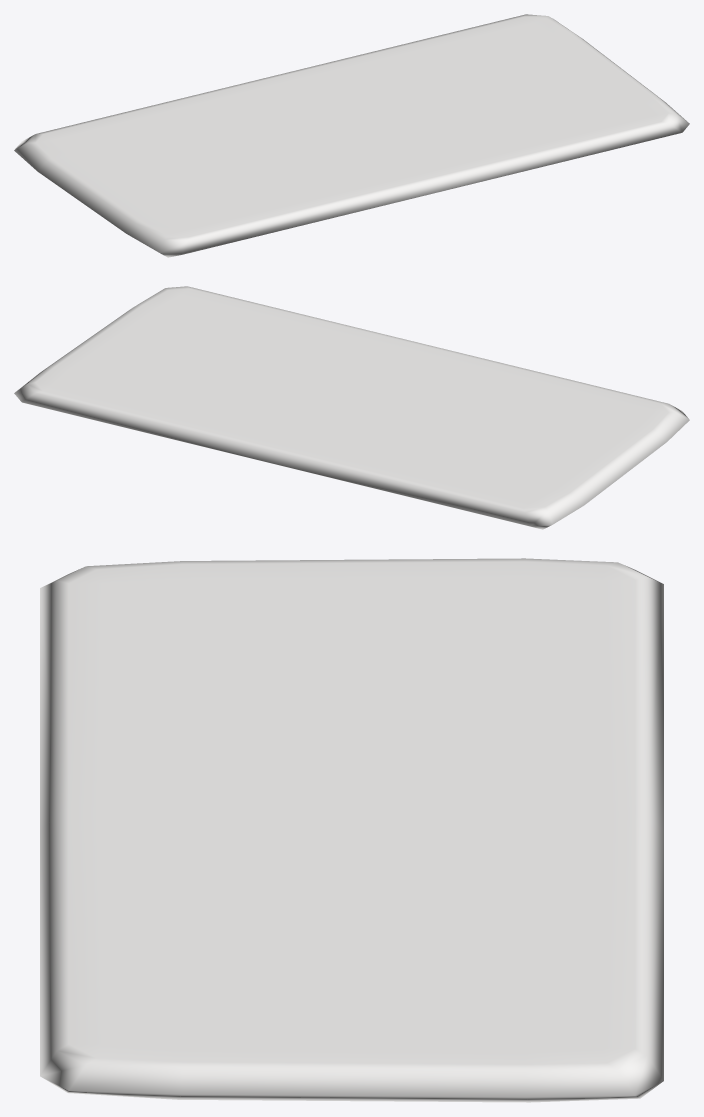
File: P_AP23RugPianist.glb
3 views of the same model, one above another, from view 1: azimuth 30°, elevation 25°; view 2: azimuth 150°, elevation 25°; view 3: azimuth 270°, elevation 25° (orthographic). The views are drawn at different scales.
Parts seen in each view (by area): view 1: P_AP23RugPianist; view 2: P_AP23RugPianist; view 3: P_AP23RugPianist.
Part boxes in pixels (x1,y1,x2,y2): P_AP23RugPianist: [14, 14, 689, 257]; P_AP23RugPianist: [14, 286, 689, 529]; P_AP23RugPianist: [40, 558, 663, 1102].
Bounding box in the file's own units: 1.51 × 0.0405 × 0.75.
Materials: 1 (1 with a texture image).
